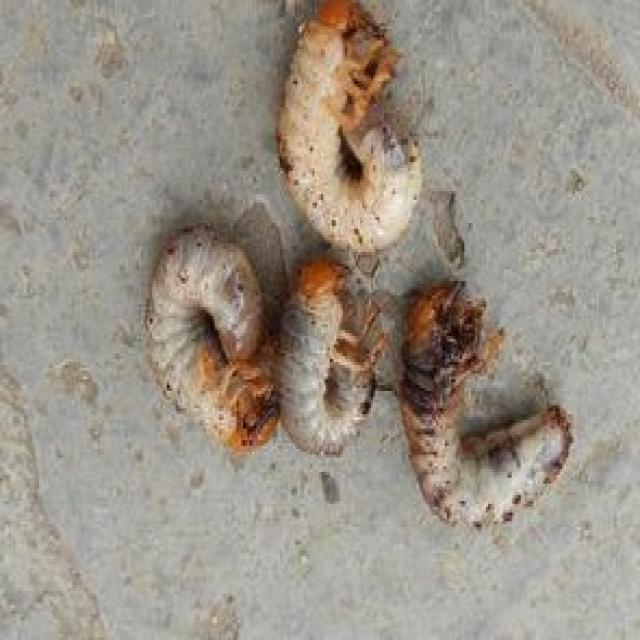grub: (383, 292, 578, 532), (255, 4, 428, 247), (137, 215, 286, 453), (265, 243, 375, 460)
